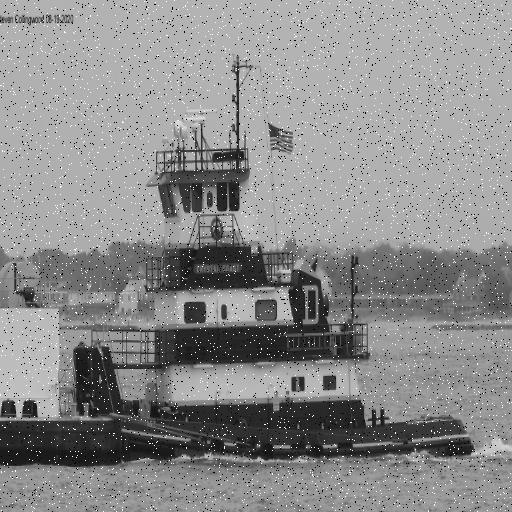tugboat: (30, 45, 482, 475)
